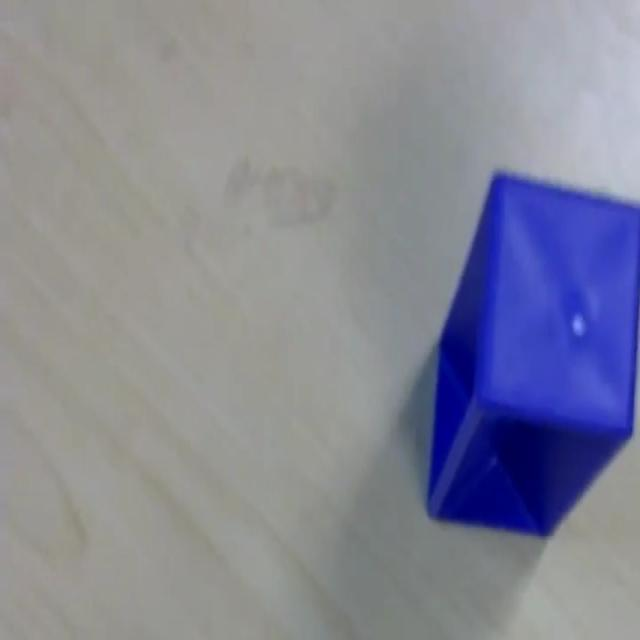blue_block: (423, 167, 638, 537)
